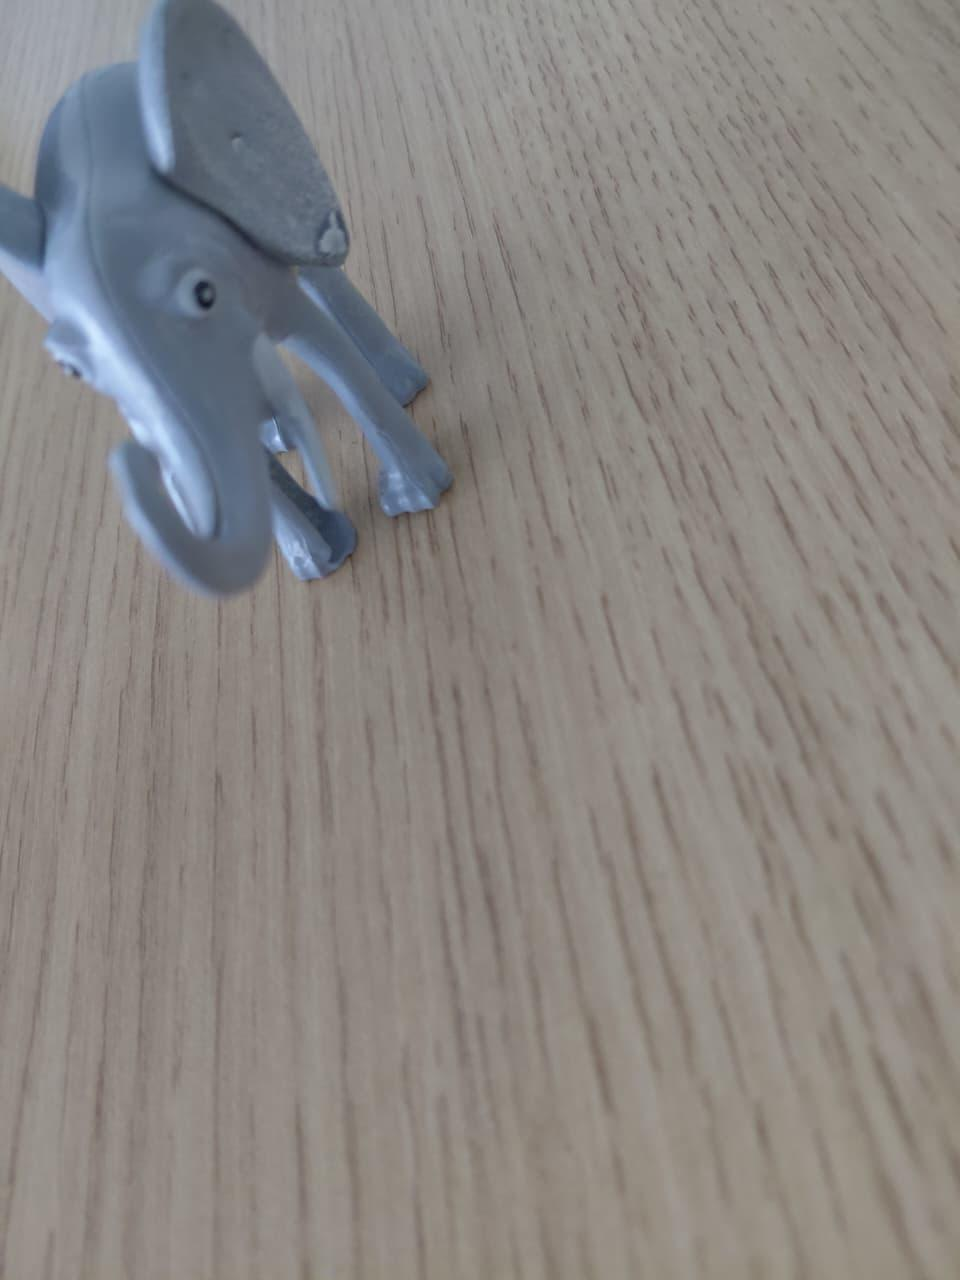elephant: (2, 5, 490, 671)
